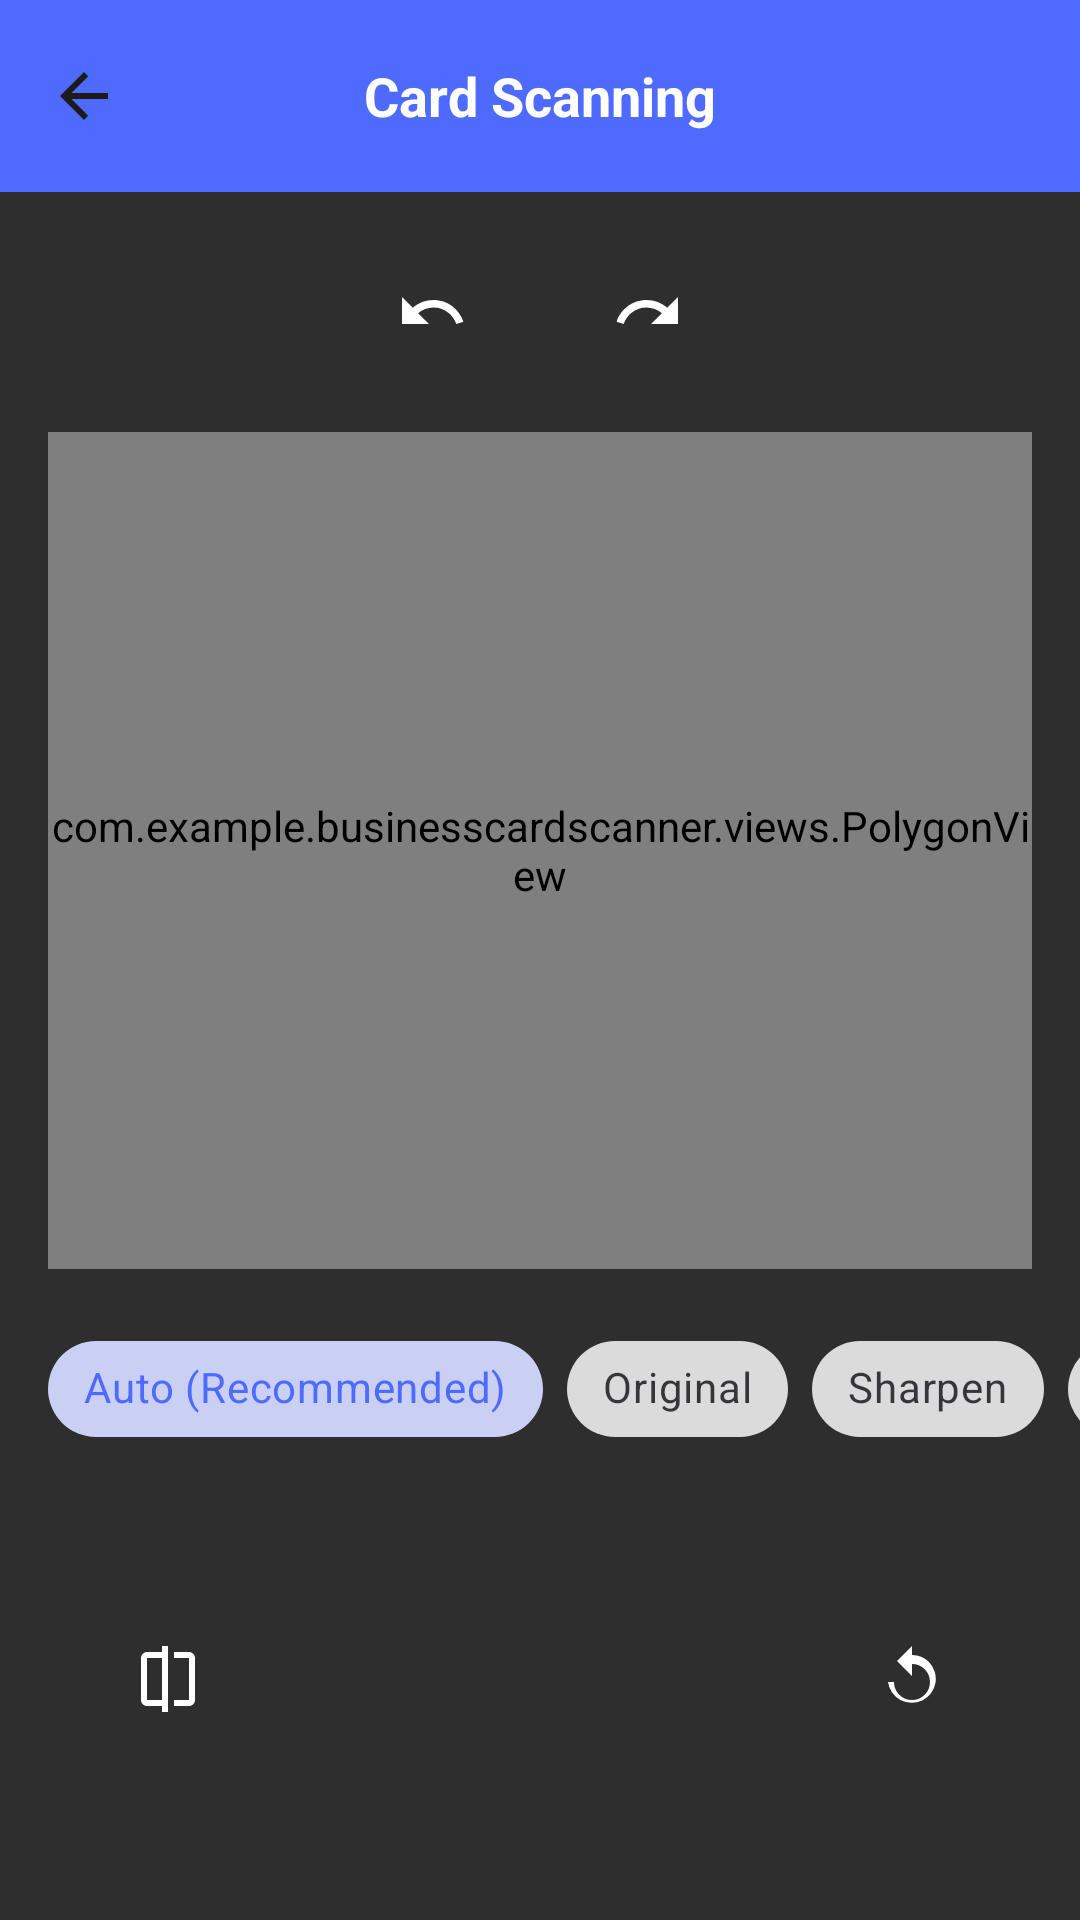

Icon click points for this 1080w x 1920h phone screenshot, format [x,y]:
compare: [168,1679]
redo: [647,310]
refresh: [912,1674]
undo: [433,310]
